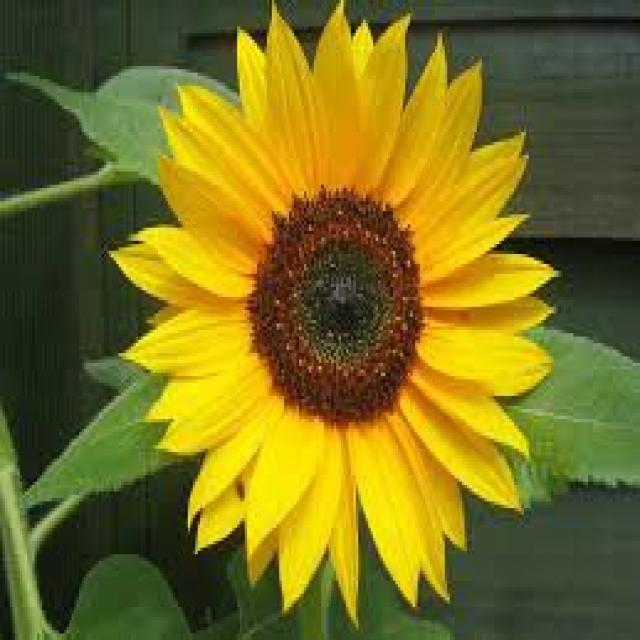sunflower: (104, 0, 568, 627)
